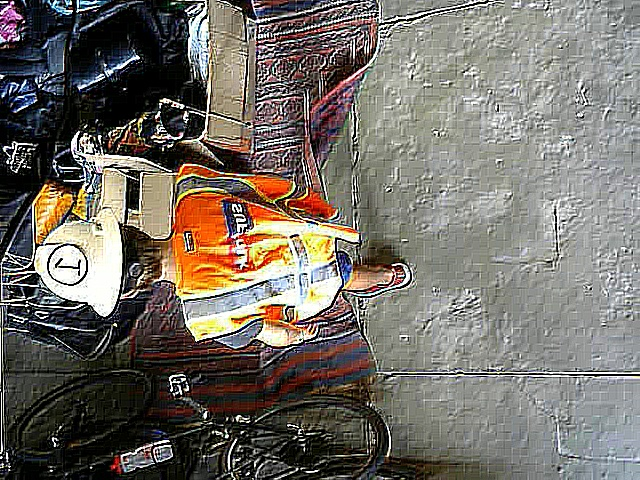one: (48, 246, 87, 286)
